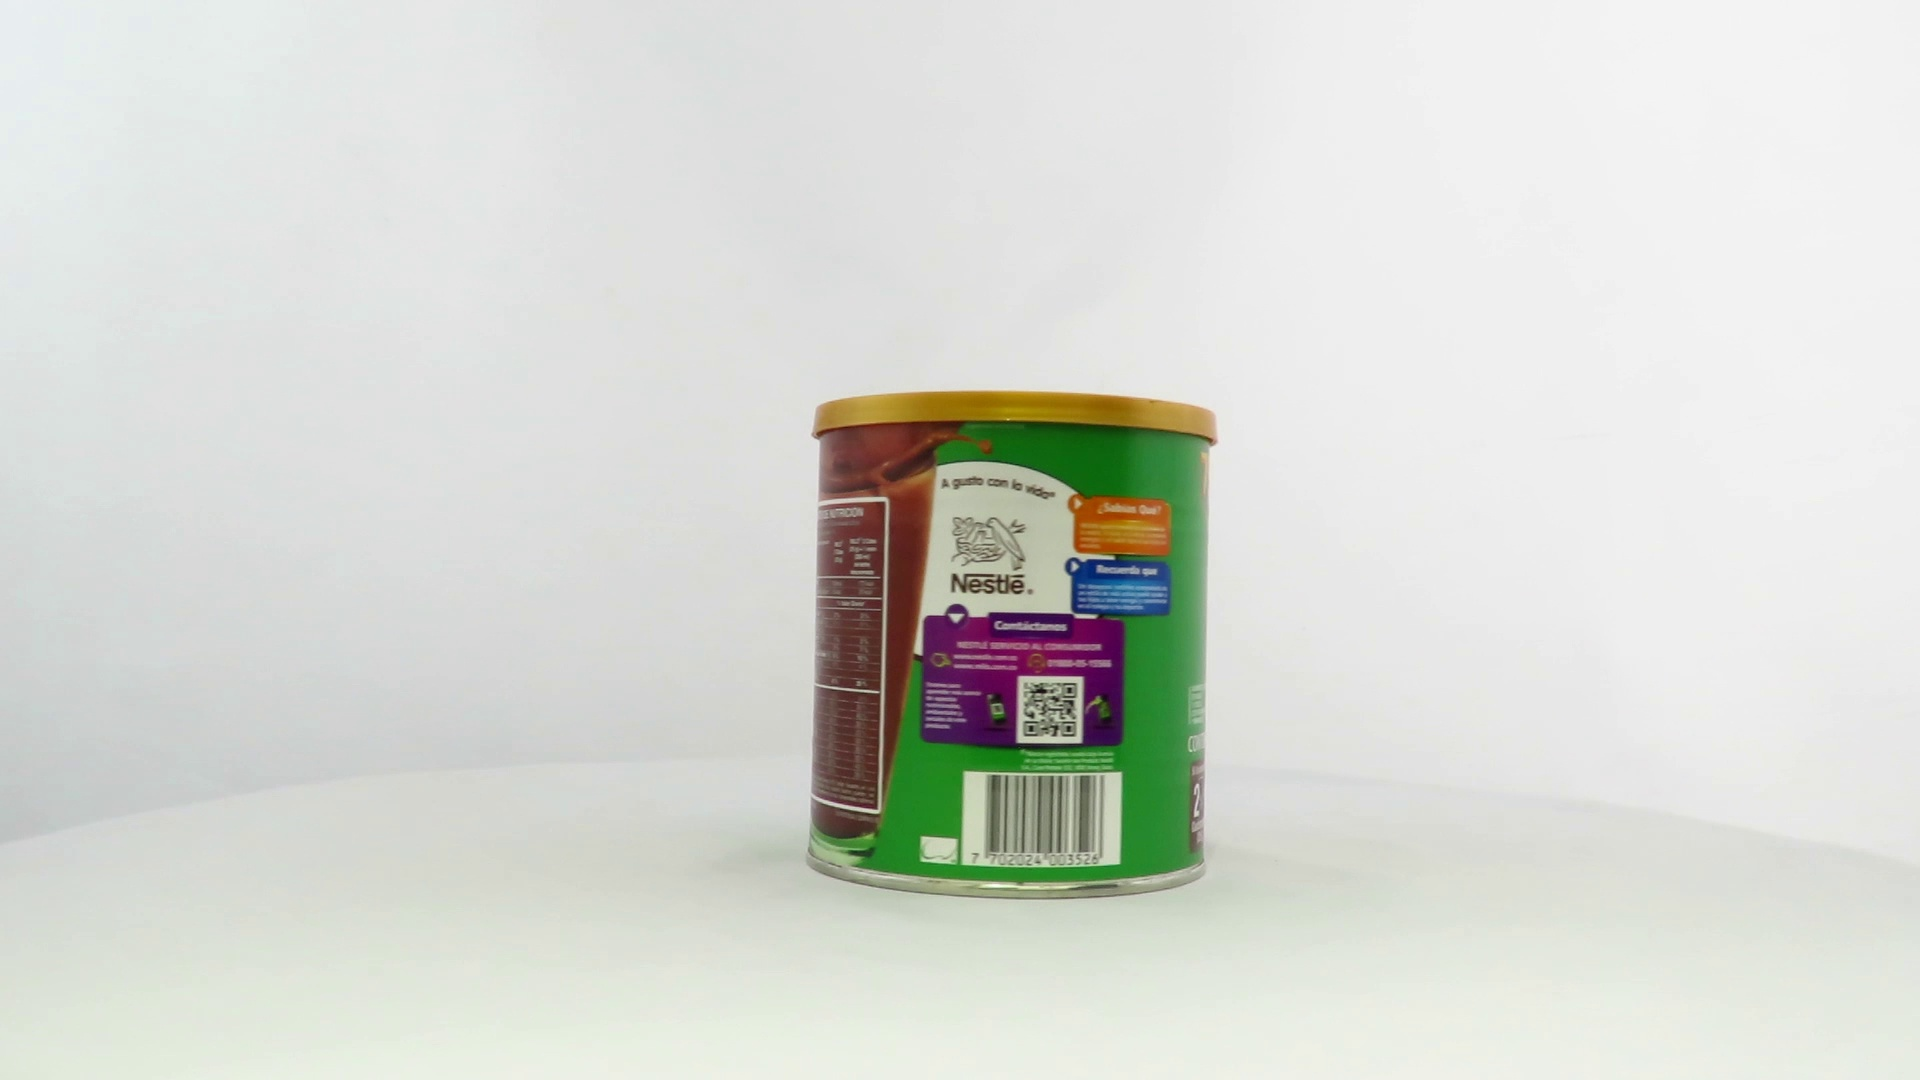COL0170203LAT40000: (800, 385, 1224, 906)
